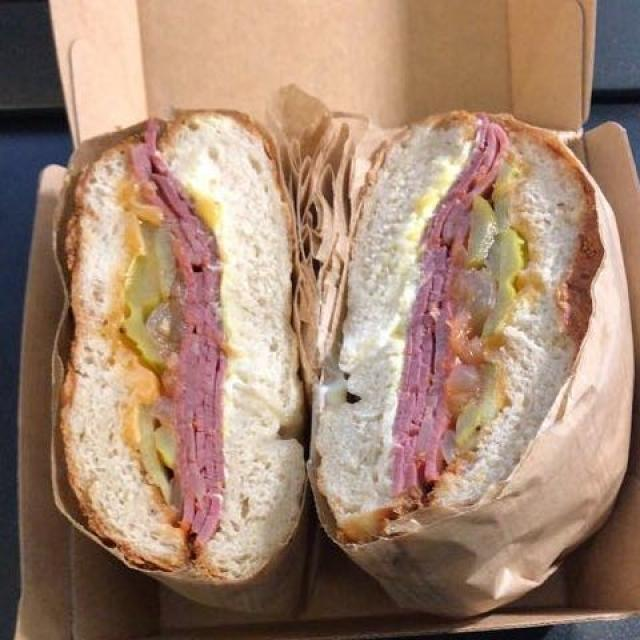bagel: (42, 104, 590, 597)
beef: (137, 123, 510, 555)
mustard: (110, 176, 534, 525)
